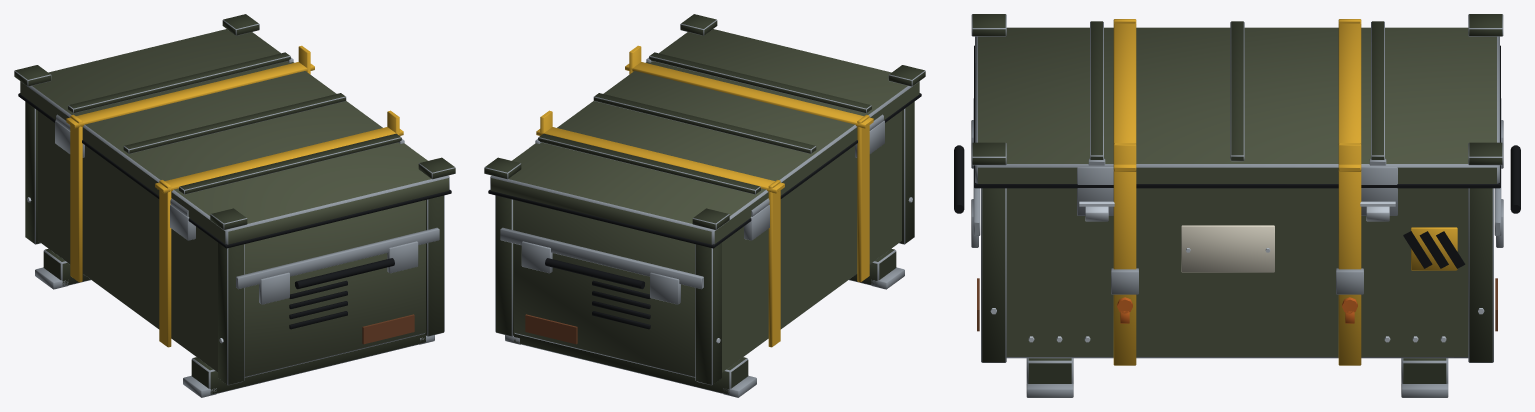
Rendered from caja_suministros_grande.glb.
3 views of the same model, side by side, from view 1: azimuth 30°, elevation 25°; view 2: azimuth 150°, elevation 25°; view 3: azimuth 270°, elevation 25° (orthographic). The views are drawn at different scales.
Parts seen in each view (by area): view 1: tapa, cuerpo, poste_1, precinto_tapa_2, patin_1, banda_lateral_1, poste_2, precinto_tapa_1, nervio_tapa_2, nervio_tapa_1, nervio_tapa_3, precinto_trasero_2 (+14 smaller); view 2: tapa, cuerpo, poste_3, precinto_tapa_1, patin_2, banda_lateral_2, poste_4, precinto_tapa_2, nervio_tapa_2, nervio_tapa_3, nervio_tapa_1, precinto_trasero_1 (+15 smaller); view 3: tapa, cuerpo, poste_2, poste_4, placa_etiqueta, precinto_frente_1, precinto_frente_2, precinto_tapa_1, precinto_tapa_2, junta_tapa, nervio_tapa_2, nervio_tapa_1 (+16 smaller).
Boxes of the visible parts, x1,y1,x2,y2 form: tapa: [20, 29, 449, 244]; cuerpo: [38, 111, 425, 377]; poste_1: [218, 242, 244, 385]; precinto_tapa_2: [66, 62, 314, 128]; patin_1: [191, 334, 426, 394]; banda_lateral_1: [236, 227, 439, 289]; poste_2: [424, 195, 444, 336]; precinto_tapa_1: [155, 127, 403, 193]; nervio_tapa_2: [123, 93, 346, 153]; nervio_tapa_1: [179, 133, 401, 194]; nervio_tapa_3: [68, 52, 290, 113]; precinto_trasero_2: [70, 114, 82, 282]; tapa: [490, 29, 919, 244]; cuerpo: [514, 111, 901, 377]; poste_3: [695, 242, 721, 385]; precinto_tapa_1: [625, 62, 873, 128]; patin_2: [513, 334, 748, 394]; banda_lateral_2: [500, 227, 703, 289]; poste_4: [495, 195, 515, 336]; precinto_tapa_2: [536, 127, 784, 193]; nervio_tapa_2: [593, 93, 816, 153]; nervio_tapa_3: [538, 133, 760, 194]; nervio_tapa_1: [649, 52, 871, 113]; precinto_trasero_1: [857, 114, 869, 282]; tapa: [975, 27, 1499, 183]; cuerpo: [1006, 188, 1468, 358]; poste_2: [981, 188, 1006, 362]; poste_4: [1468, 188, 1493, 362]; placa_etiqueta: [1181, 225, 1274, 272]; precinto_frente_1: [1113, 143, 1136, 365]; precinto_frente_2: [1338, 143, 1361, 365]; precinto_tapa_1: [1113, 23, 1136, 171]; precinto_tapa_2: [1338, 23, 1361, 171]; junta_tapa: [974, 45, 1500, 188]; nervio_tapa_2: [1230, 21, 1244, 161]; nervio_tapa_1: [1090, 21, 1103, 159].
Bounding box in the file's own units: 0.75 × 0.595 × 1.21.
